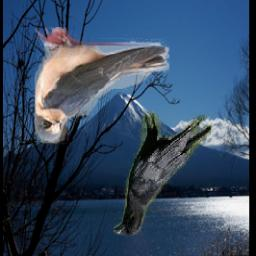Crow: (113, 112, 212, 236)
Swallow: (35, 27, 169, 144)
